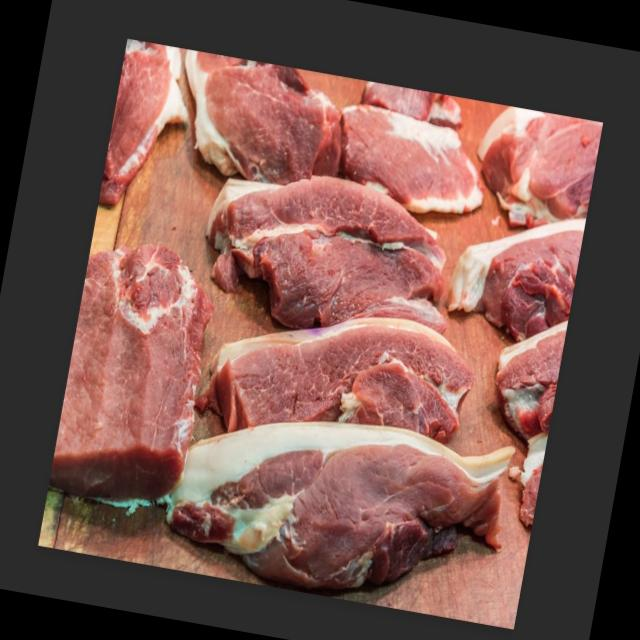pork: (176, 424, 494, 608), (45, 232, 221, 523), (188, 152, 464, 330), (214, 290, 480, 453), (314, 94, 497, 237), (453, 317, 565, 547), (173, 48, 351, 178), (440, 94, 604, 230), (444, 198, 586, 340), (100, 37, 196, 223)
